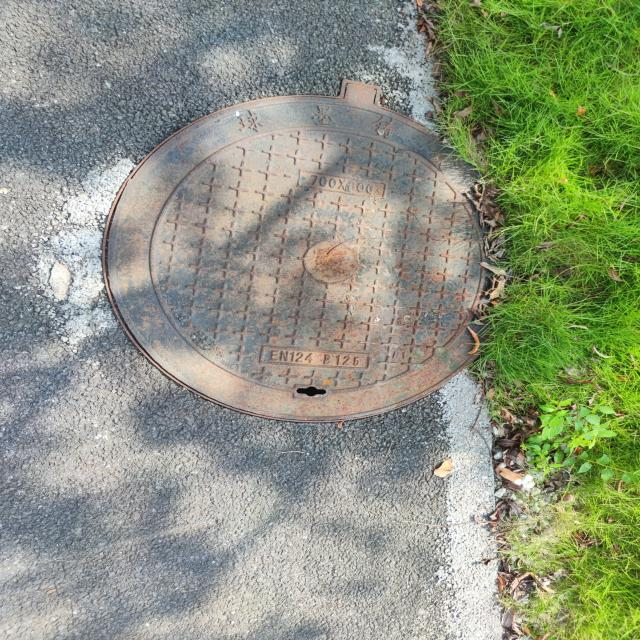Good: (88, 70, 530, 430)
